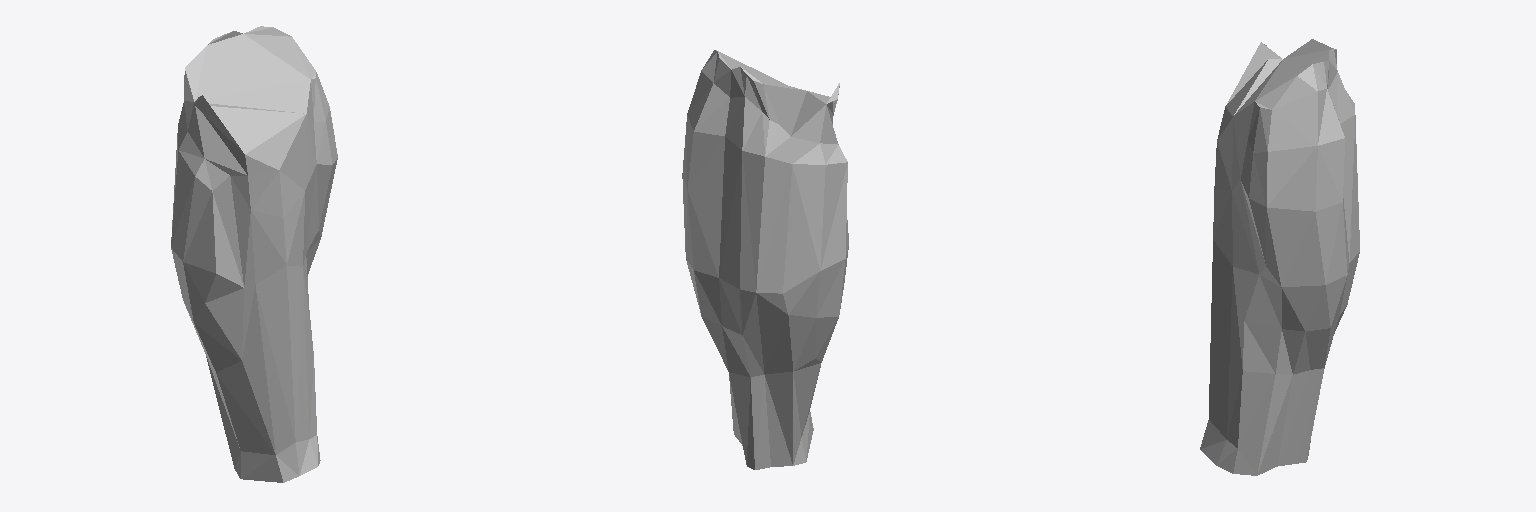
The model's file is leftforeleg.obj.
3 renders of one model, left to right at view 1: azimuth 30°, elevation 25°; view 2: azimuth 150°, elevation 25°; view 3: azimuth 270°, elevation 25°, orthographic.
Parts seen in each view (by area): view 1: cube1_copy15; view 2: cube1_copy15; view 3: cube1_copy15.
Boxes of the visible parts, x1,y1,x2,y2 form: cube1_copy15: [171, 26, 337, 482]; cube1_copy15: [682, 50, 848, 469]; cube1_copy15: [1200, 39, 1359, 475].
Bounding box in the file's own units: 0.795 × 2.1 × 0.7333.